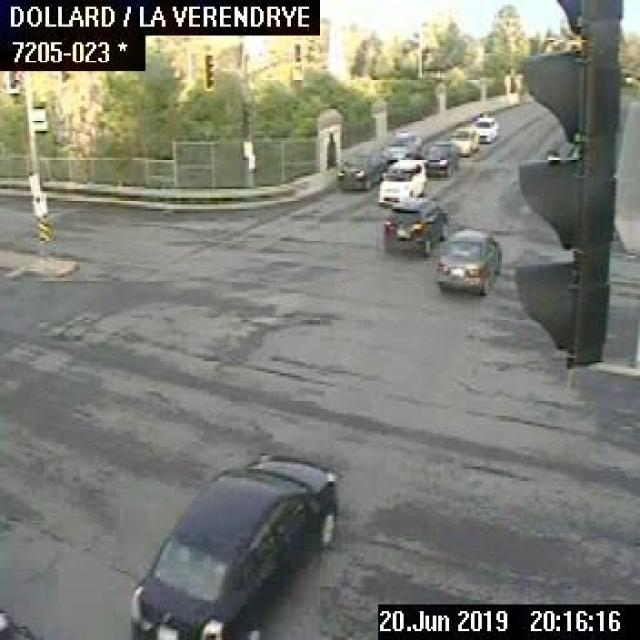vehicle: (125, 451, 338, 638), (433, 228, 498, 298), (383, 196, 445, 256), (336, 143, 384, 187), (376, 158, 424, 202), (0, 600, 42, 638), (425, 138, 460, 176), (381, 129, 420, 156), (449, 123, 479, 154), (473, 115, 497, 142)
